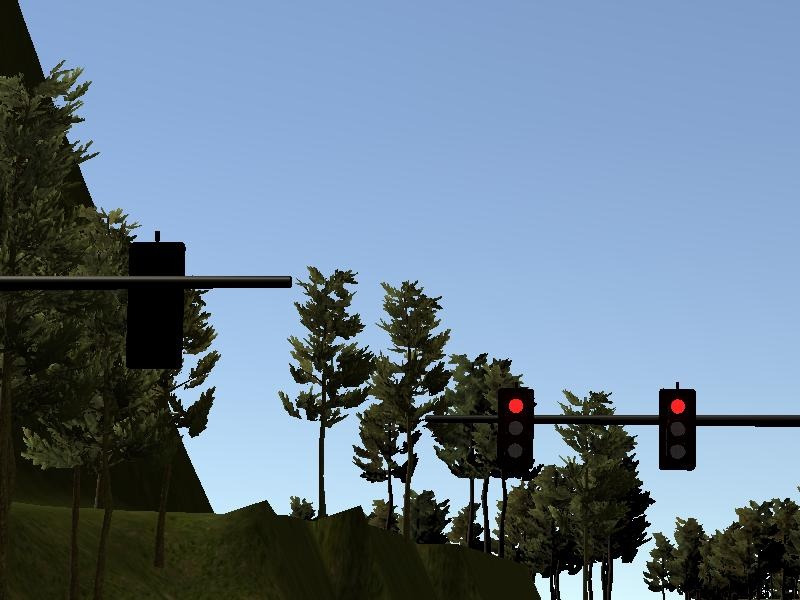RED: (497, 388, 533, 468), (659, 390, 694, 468)
